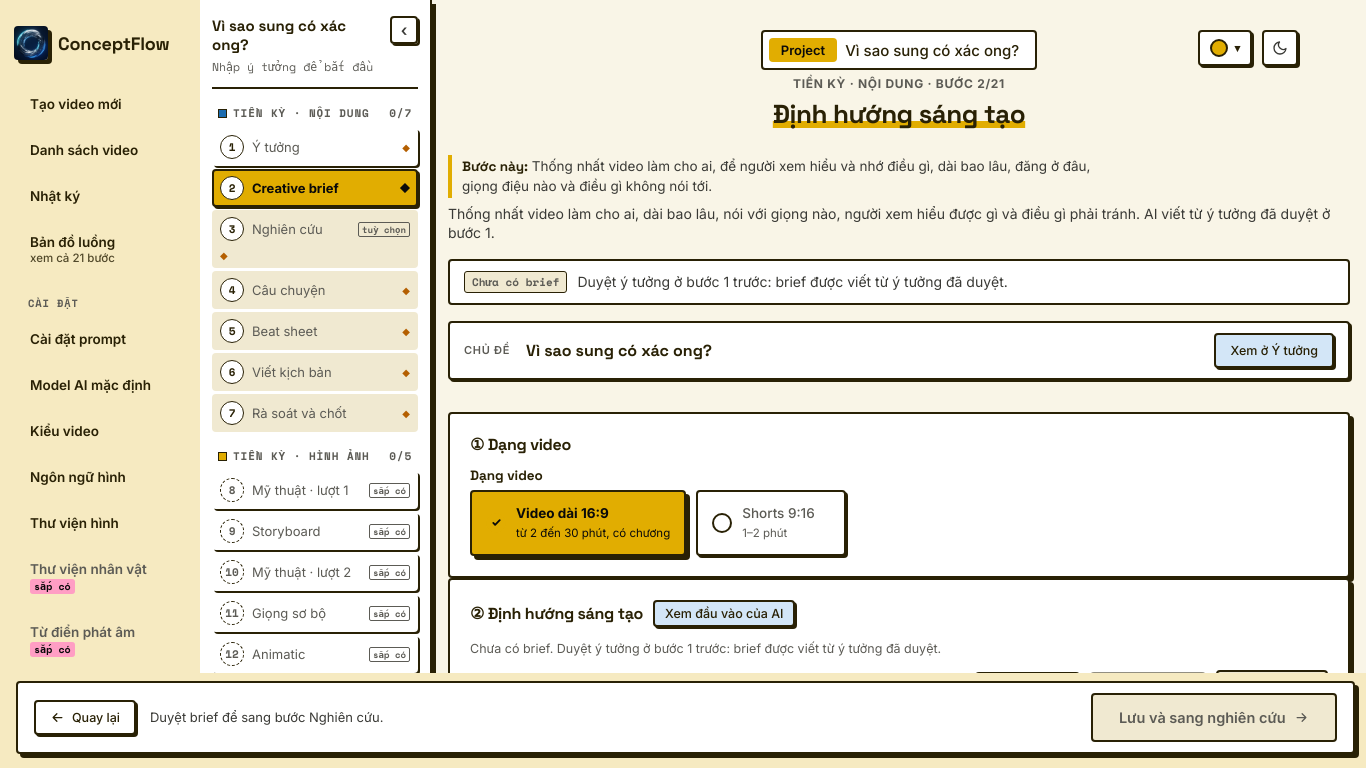
it: CreativeBriefStepPage (Bước 2 — Creative brief) › ý tưởng chưa duyệt thì không cho AI viết và nói phải duyệt ý tưởng trước
Check: the button with test id "brief-generate" is disabled, box x1=1216 y1=670 x2=1328 y2=710
Click the button with test id "brief-input-open": click(724, 613) x1=653 y1=600 x2=796 y2=627
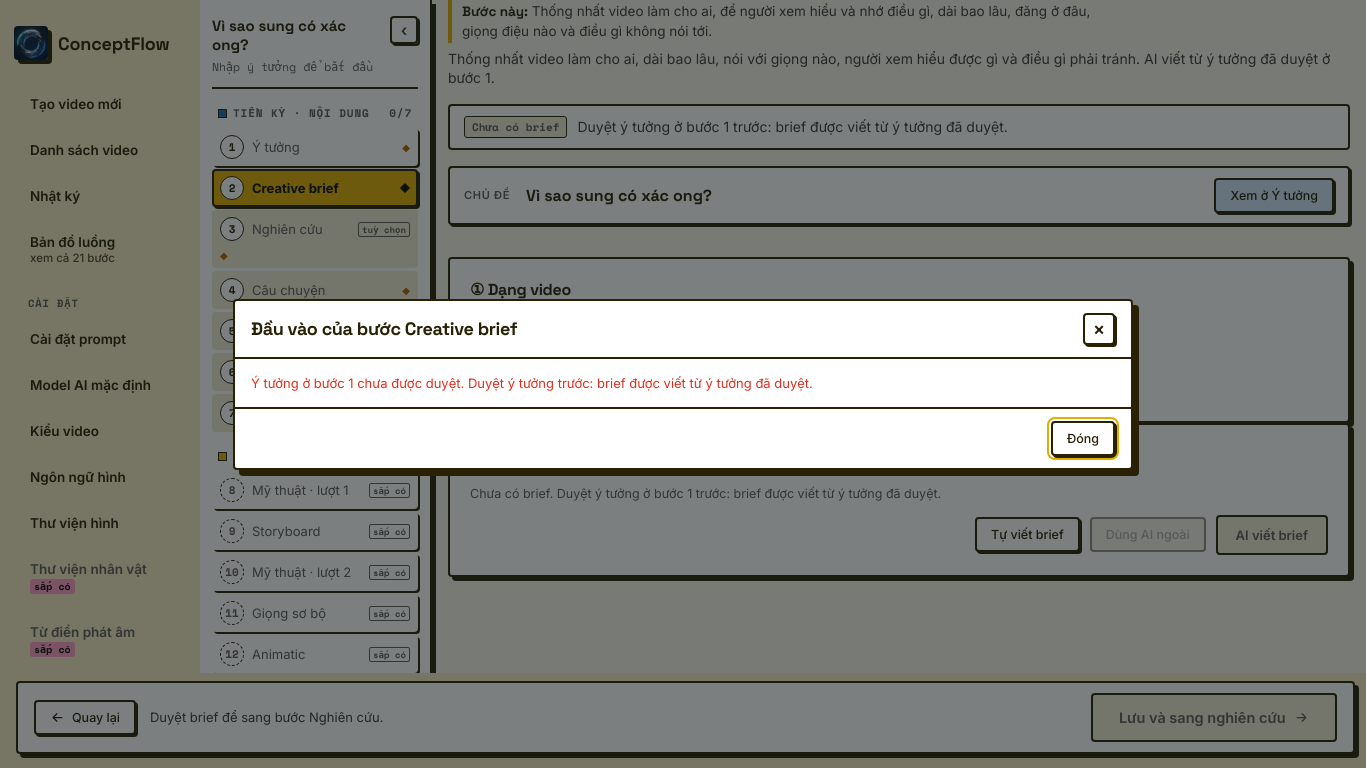
Check: the message with test id "step-strip" shows "Duyệt ý tưởng ở bước 1 trước", box x1=577 y1=118 x2=1008 y2=136
Check: the message with test id "brief-idea-missing" shows "chưa được duyệt", box x1=251 y1=374 x2=813 y2=390
